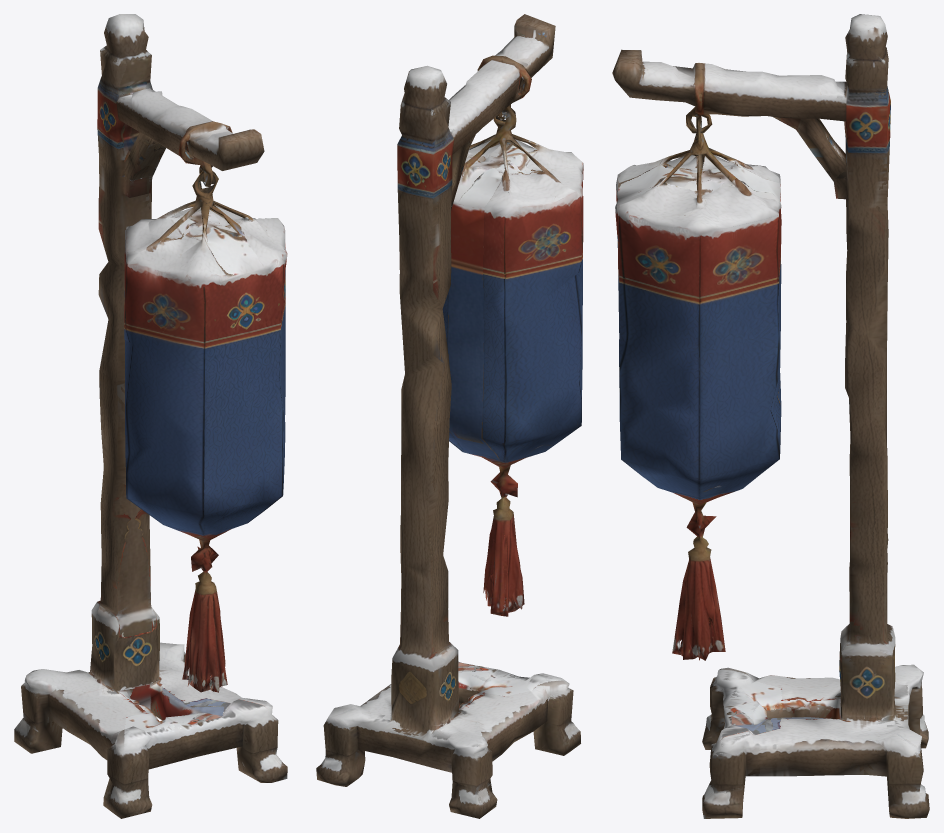
File: PR_Cheongsachorong.fbx
3 views of the same model, side by side, from view 1: azimuth 30°, elevation 25°; view 2: azimuth 150°, elevation 25°; view 3: azimuth 270°, elevation 25° (orthographic). The views are drawn at different scales.
Visible parts, largest first — view 1: texture_mapping; view 2: texture_mapping; view 3: texture_mapping.
Part boxes in pixels (x1,y1,x2,y2): texture_mapping: (14, 14, 287, 818); texture_mapping: (316, 14, 583, 818); texture_mapping: (612, 14, 929, 818).
Size of the model in its own units: 0.2441 by 0.3788 by 1.
Materials: 1 (1 with a texture image).
